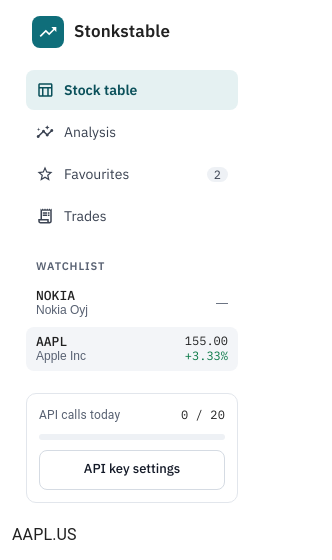
Test: Sidebar watchlist › selects a stock when its row is clicked and marks it as current
Step 1. Click the button "NOKIA Nokia Oyj —" → [132, 302], box [26, 280, 238, 324]
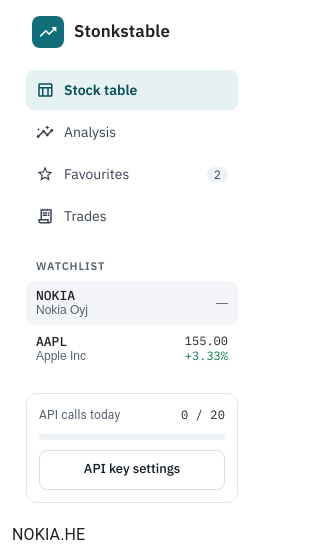
Check: the text with test id "selection" reads "NOKIA.HE", box [12, 524, 85, 544]
